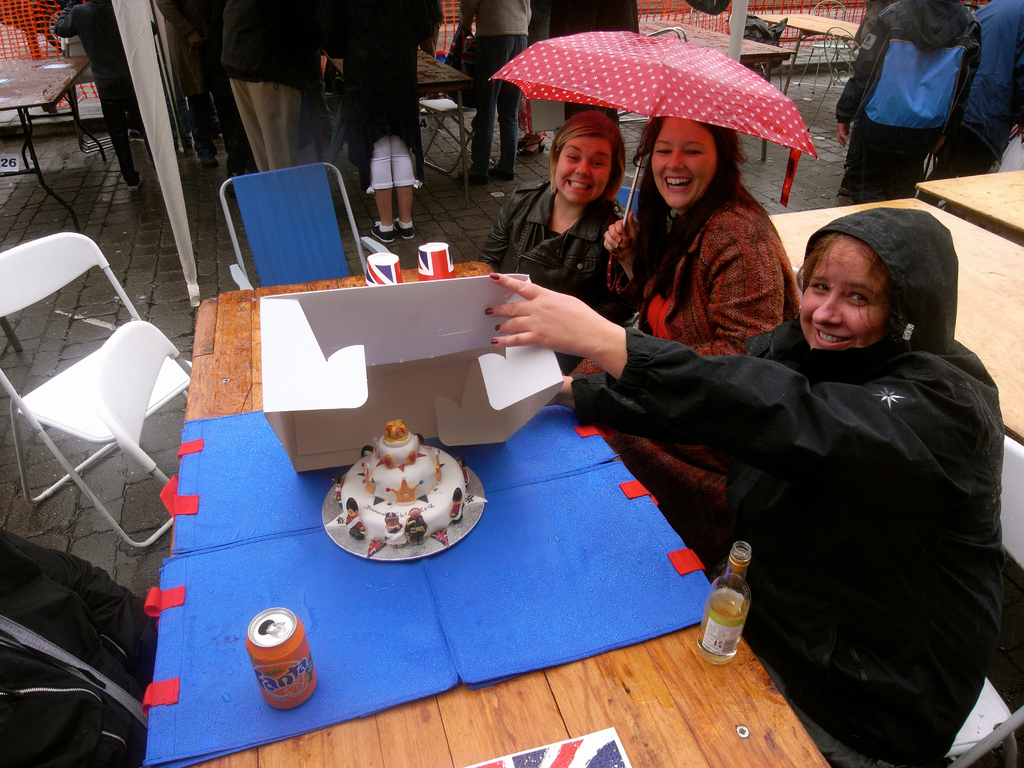cake: (317, 406, 489, 564)
